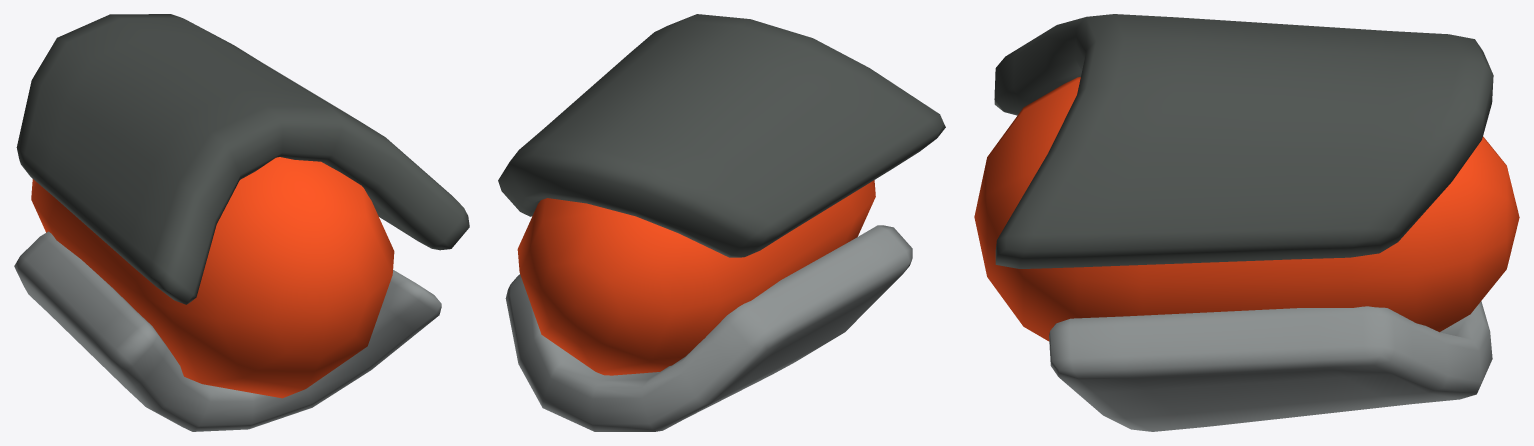
File: xsens_LeftFifthMP.dae
3 renders of one model, left to right at view 1: azimuth 30°, elevation 25°; view 2: azimuth 150°, elevation 25°; view 3: azimuth 270°, elevation 25°, orthographic. The views are drawn at different scales.
Visible parts, largest first — view 1: LeftFifthMP; view 2: LeftFifthMP; view 3: LeftFifthMP.
Part boxes in pixels (x1=…): LeftFifthMP: x1=14, y1=14, x2=469, y2=431; LeftFifthMP: x1=498, y1=14, x2=945, y2=431; LeftFifthMP: x1=974, y1=14, x2=1519, y2=431.
Size of the model in its own units: 0.0186 by 0.0238 by 0.0182.
